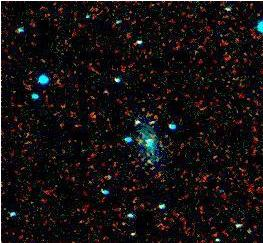star: (137, 150, 167, 180)
